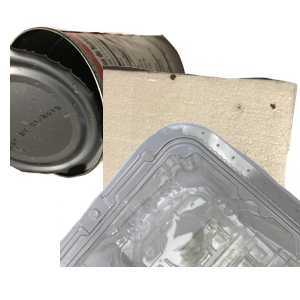glass: (102, 181, 246, 300)
metal: (10, 23, 193, 194)
plastic: (60, 120, 300, 300)
trash: (103, 62, 300, 242)
